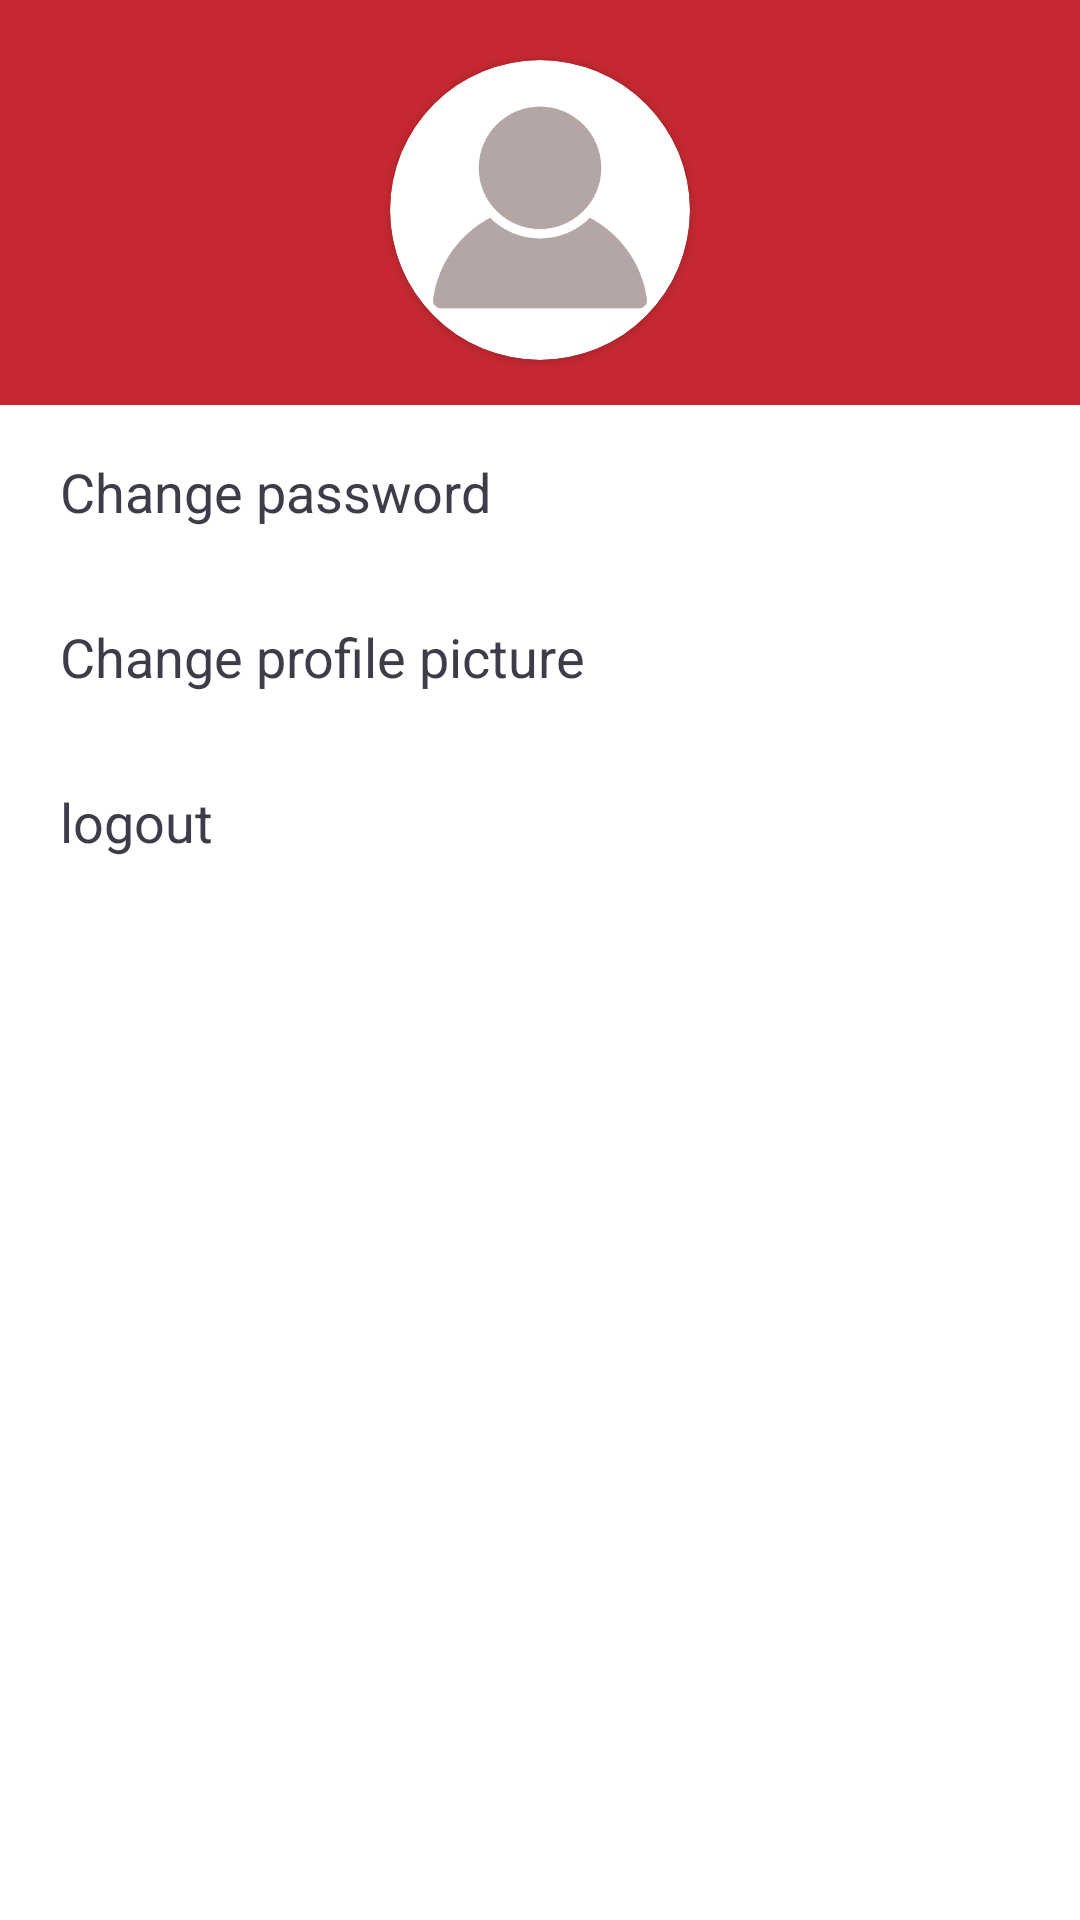

Named icons in this screenshot (1080×1920) and their bounding boxes, (x1, y1, x2, y2):
profile: (390, 60, 690, 360)
